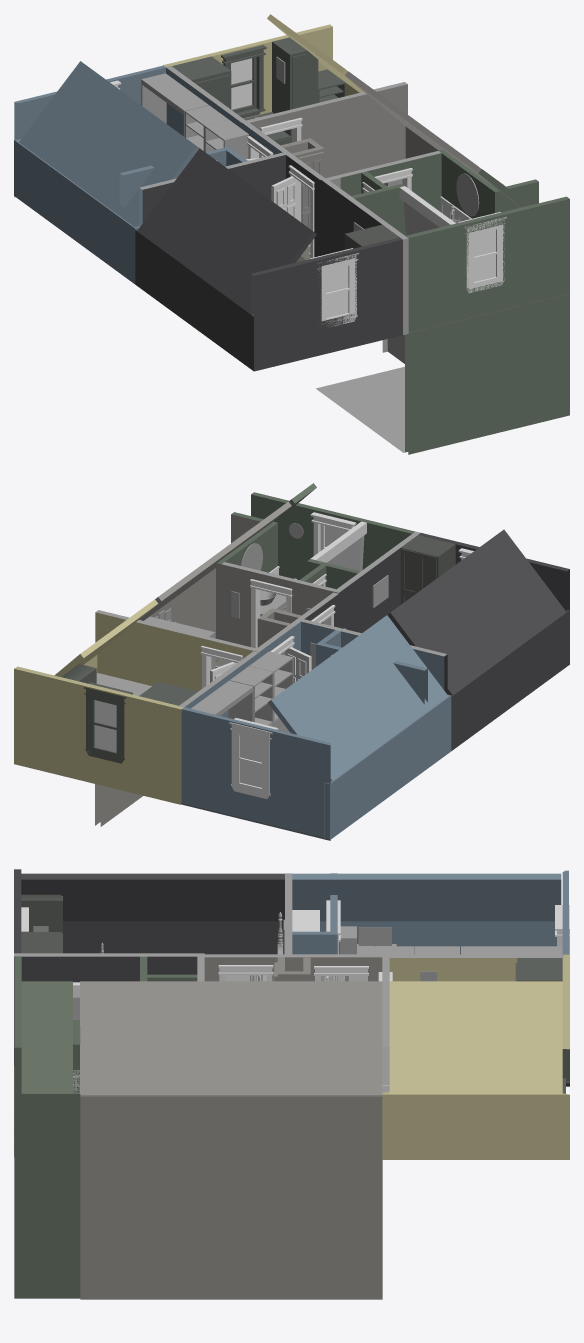
The model's file is MapUnfinished.fbx.
3 renders of one model, top to bottom at view 1: azimuth 30°, elevation 25°; view 2: azimuth 150°, elevation 25°; view 3: azimuth 270°, elevation 25°, orthographic. The views are drawn at different scales.
Parts seen in each view (by area): view 1: pCube39, pCube156, pCube232, polySurface19, polySurface20, polySurface10, polySurface21, polySurface126, pCube41, pCube167, pCube145, pCube146 (+25 smaller); view 2: pCube156, polySurface16, pCube232, polySurface17, polySurface20, polySurface21, polySurface10, pCube39, pCube41, polySurface13, pCube147, pCube148 (+29 smaller); view 3: polySurface13, pCube233, pCube155, pCube232, polySurface14, pCube37, pCube156, polySurface21, pCube234, pCube41, polySurface20, polySurface15 (+16 smaller).
Boxes of the visible parts, left/top/right/bottom form: pCube39: left=405, top=196, right=569, bottom=454; pCube156: left=137, top=148, right=316, bottom=314; pCube232: left=19, top=61, right=199, bottom=229; polySurface19: left=251, top=237, right=402, bottom=371; polySurface20: left=14, top=139, right=139, bottom=284; polySurface10: left=297, top=82, right=407, bottom=178; polySurface21: left=135, top=229, right=253, bottom=371; polySurface126: left=316, top=366, right=404, bottom=452; pCube41: left=324, top=180, right=408, bottom=334; pCube167: left=272, top=37, right=318, bottom=113; pCube145: left=458, top=212, right=506, bottom=293; pCube146: left=310, top=248, right=358, bottom=326; pCube156: left=387, top=529, right=566, bottom=695; polySurface16: left=14, top=666, right=183, bottom=804; pCube232: left=267, top=615, right=448, bottom=780; polySurface17: left=181, top=707, right=331, bottom=840; polySurface20: left=324, top=695, right=451, bottom=839; polySurface21: left=447, top=610, right=569, bottom=750; polySurface10: left=95, top=610, right=205, bottom=691; pCube39: left=251, top=492, right=415, bottom=579; pCube41: left=337, top=531, right=420, bottom=633; polySurface13: left=95, top=568, right=215, bottom=826; pCube147: left=229, top=718, right=278, bottom=798; pCube148: left=84, top=682, right=132, bottom=763; polySurface13: left=80, top=1093, right=382, bottom=1299; pCube233: left=80, top=981, right=382, bottom=1095; pCube155: left=389, top=981, right=562, bottom=1094; pCube232: left=292, top=873, right=561, bottom=921; polySurface14: left=382, top=1091, right=569, bottom=1159; pCube37: left=21, top=1091, right=80, bottom=1298; pCube156: left=21, top=873, right=284, bottom=921; polySurface21: left=63, top=921, right=283, bottom=954; pCube234: left=21, top=981, right=72, bottom=1093; pCube41: left=14, top=953, right=197, bottom=1065; polySurface20: left=320, top=921, right=556, bottom=954; polySurface15: left=389, top=954, right=563, bottom=981.
Size of the model in its own units: 10.5 by 8.63 by 13.8.
